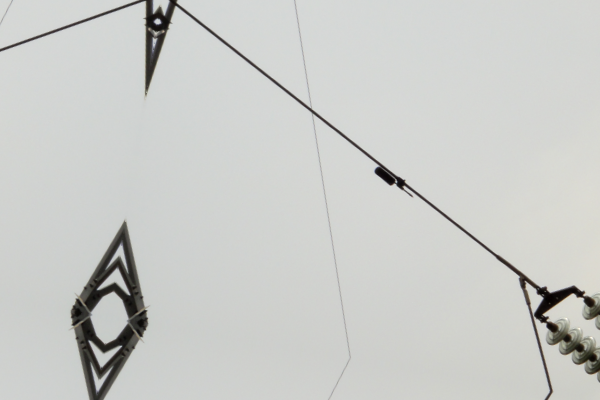damper_defect: (373, 164, 414, 199)
